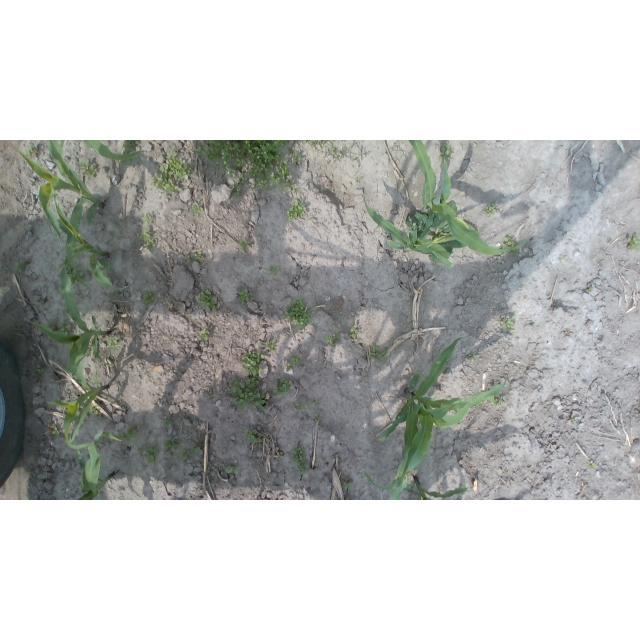Maize: (377, 337, 508, 500), (409, 140, 534, 256), (16, 140, 104, 286), (29, 262, 135, 379), (47, 180, 129, 290), (358, 183, 455, 268), (48, 353, 108, 451), (73, 432, 122, 501), (363, 470, 468, 500), (56, 140, 146, 161)
Weeds: (197, 140, 304, 192), (151, 150, 192, 196), (231, 377, 267, 411), (281, 296, 311, 331), (241, 351, 266, 377), (291, 444, 310, 476), (164, 436, 189, 460), (61, 261, 85, 284), (286, 199, 307, 222), (199, 290, 218, 313), (369, 344, 389, 363), (272, 378, 293, 396), (80, 159, 99, 178), (439, 140, 454, 164), (504, 236, 521, 257), (145, 443, 161, 465), (136, 230, 154, 249), (330, 140, 345, 161), (324, 332, 341, 349), (244, 429, 263, 444), (116, 428, 136, 442), (122, 141, 140, 156), (440, 240, 462, 252), (105, 333, 120, 349), (260, 337, 277, 351), (288, 355, 305, 369), (483, 203, 500, 217), (502, 316, 515, 333), (627, 234, 640, 250), (15, 259, 29, 273), (33, 364, 48, 377), (240, 291, 253, 306), (346, 325, 359, 340), (89, 406, 101, 421), (192, 203, 204, 218), (60, 323, 73, 336), (231, 184, 244, 197), (26, 144, 39, 157), (144, 291, 156, 305), (489, 395, 503, 407), (200, 329, 212, 342), (268, 265, 281, 276), (310, 140, 327, 148), (47, 319, 58, 331), (296, 401, 309, 411), (191, 250, 204, 260), (225, 466, 240, 474), (36, 299, 48, 309), (466, 354, 479, 363), (405, 216, 414, 229), (52, 424, 60, 438), (343, 479, 353, 490), (191, 443, 201, 453), (143, 213, 153, 223), (162, 420, 173, 429), (429, 254, 438, 265), (240, 240, 249, 250), (407, 483, 418, 491), (588, 461, 597, 470), (276, 452, 284, 461), (120, 160, 133, 165), (184, 252, 191, 261), (589, 284, 596, 293), (33, 322, 41, 329), (315, 416, 321, 425), (571, 416, 577, 425), (112, 267, 119, 274), (205, 391, 212, 397), (354, 155, 360, 162), (476, 400, 484, 405), (312, 401, 320, 405), (92, 218, 97, 224), (558, 256, 564, 260), (356, 177, 360, 182), (303, 141, 308, 144)
